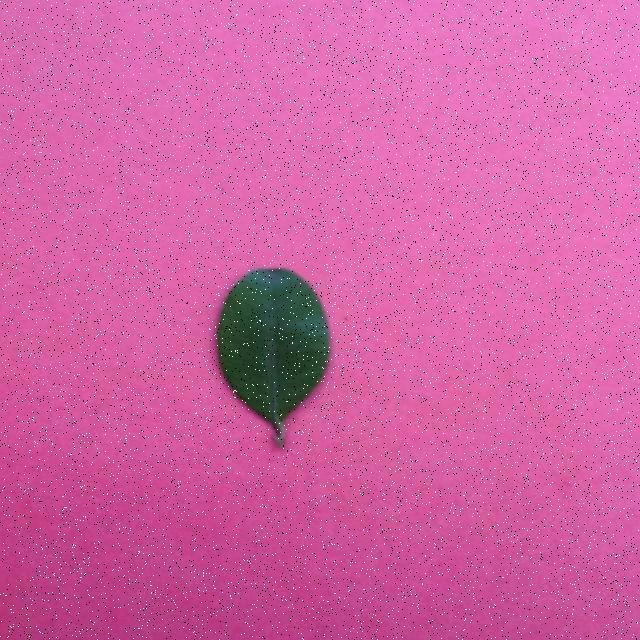foliage: (218, 265, 336, 450)
